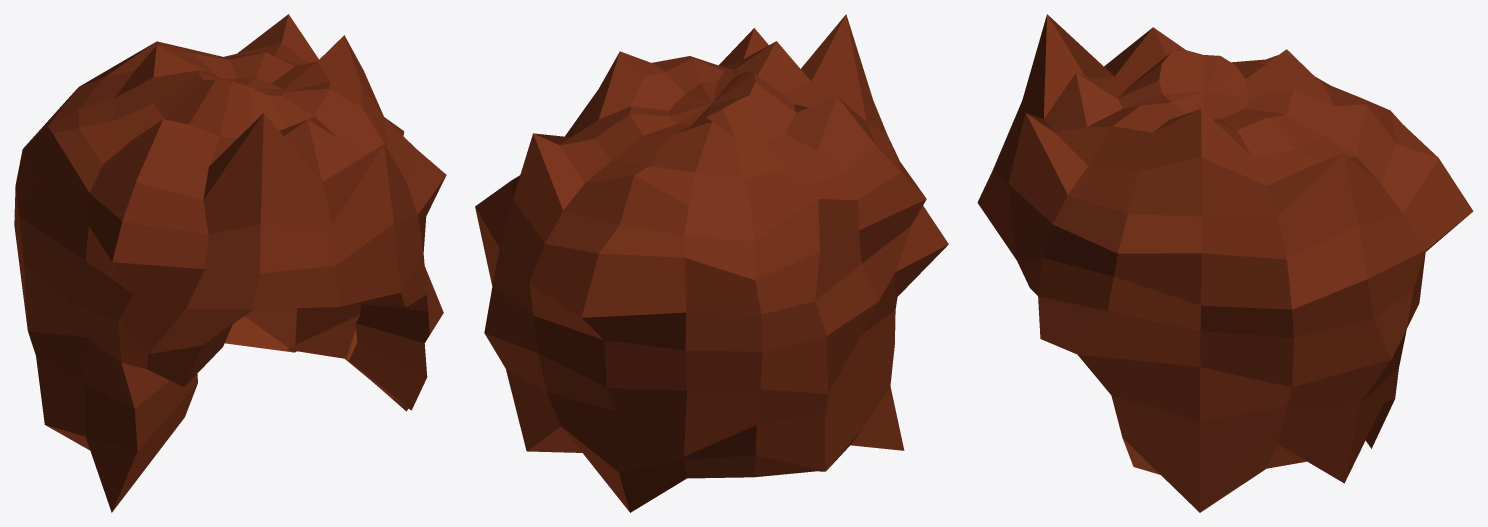
The model's file is HAIR.fbx.
The picture shows the model from 3 angles, left to right: view 1: azimuth 30°, elevation 25°; view 2: azimuth 150°, elevation 25°; view 3: azimuth 270°, elevation 25°; orthographic projection. The views are drawn at different scales.
Visible parts, largest first — view 1: Sphere; view 2: Sphere; view 3: Sphere.
Part boxes in pixels (x1=…): Sphere: x1=14, y1=14, x2=446, y2=512; Sphere: x1=475, y1=14, x2=948, y2=512; Sphere: x1=977, y1=14, x2=1473, y2=512.
Bounding box in the file's own units: 44.56 × 46.59 × 51.54.
